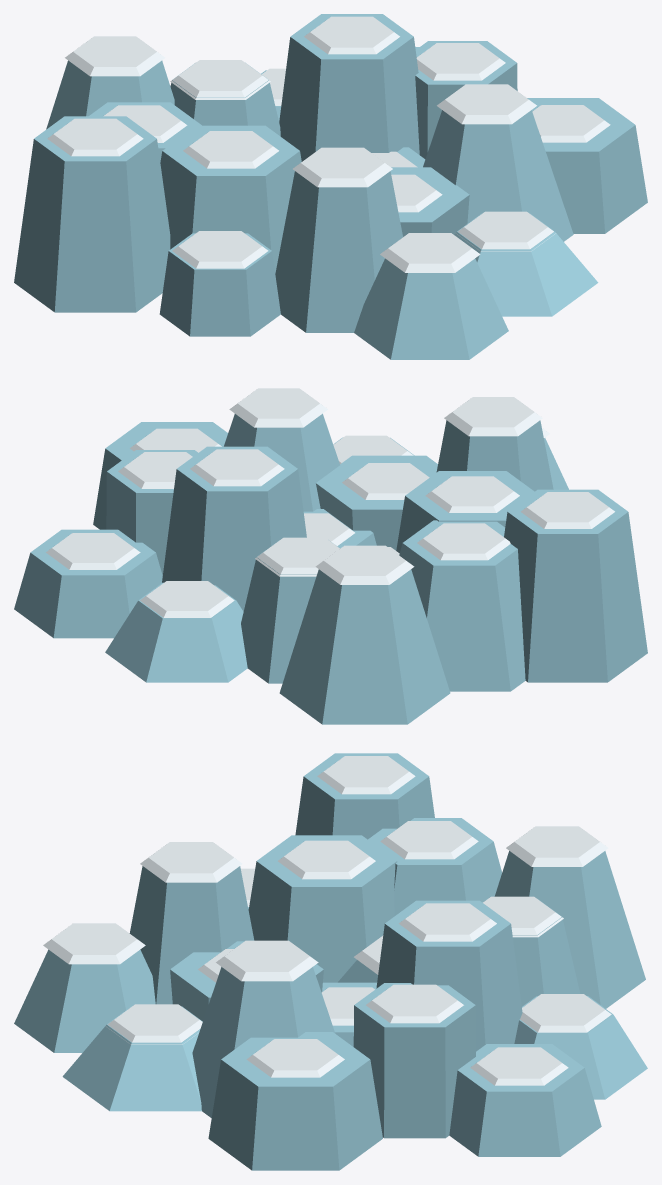
The model's file is FEATURE_GLACIER_v01.fbx.
3 renders of one model, top to bottom at view 1: azimuth 30°, elevation 25°; view 2: azimuth 150°, elevation 25°; view 3: azimuth 270°, elevation 25°, orthographic. The views are drawn at different scales.
Visible parts, largest first — view 1: Glacial_serac.035, Glacial_serac.025, Glacial_serac.021, Glacial_serac.033, Glacial_serac.022, Glacial_serac.023, Glacial_serac.031, Glacial_serac.030, Glacial_serac.028, Glacial_serac.032, Glacial_serac.026, Glacial_serac.024 (+17 smaller); view 2: Glacial_serac.035, Glacial_serac.032, Glacial_serac.027, Glacial_serac.021, Glacial_serac.034, Glacial_serac.029, Glacial_serac.024, Glacial_serac.025, Glacial_serac.020, Glacial_serac.023, Glacial_serac.026, Glacial_serac.022 (+17 smaller); view 3: Glacial_serac.031, Glacial_serac.022, Glacial_serac.026, Glacial_serac.034, Glacial_serac.032, Glacial_serac.021, Glacial_serac.025, Glacial_serac.033, Glacial_serac.023, Glacial_serac.028, Glacial_serac.035, Glacial_serac.027 (+19 smaller).
Boxes of the visible parts, box(x1,y1,x2,y2) form: Glacial_serac.035: box(14, 116, 170, 312); Glacial_serac.025: box(275, 171, 402, 332); Glacial_serac.021: box(279, 14, 419, 161); Glacial_serac.033: box(354, 258, 508, 359); Glacial_serac.022: box(160, 125, 301, 272); Glacial_serac.023: box(423, 110, 573, 241); Glacial_serac.031: box(527, 98, 647, 233); Glacial_serac.030: box(159, 233, 280, 336); Glacial_serac.028: box(454, 213, 598, 316); Glacial_serac.032: box(46, 60, 174, 129); Glacial_serac.026: box(415, 41, 517, 159); Glacial_serac.024: box(170, 62, 280, 136); Glacial_serac.035: box(504, 489, 647, 682); Glacial_serac.032: box(279, 569, 450, 724); Glacial_serac.027: box(399, 520, 525, 691); Glacial_serac.021: box(162, 446, 306, 611); Glacial_serac.034: box(14, 529, 162, 638); Glacial_serac.029: box(105, 582, 247, 682); Glacial_serac.024: box(241, 540, 338, 683); Glacial_serac.025: box(436, 420, 553, 491); Glacial_serac.020: box(316, 455, 437, 550); Glacial_serac.023: box(224, 413, 339, 511); Glacial_serac.026: box(106, 450, 197, 575); Glacial_serac.022: box(396, 471, 534, 552); Glacial_serac.031: box(208, 1032, 382, 1170); Glacial_serac.022: box(248, 835, 397, 982); Glacial_serac.026: box(353, 983, 475, 1138); Glacial_serac.034: box(449, 1044, 601, 1156); Glacial_serac.032: box(494, 851, 645, 1008); Glacial_serac.021: box(376, 900, 522, 1051); Glacial_serac.025: box(129, 866, 254, 1004); Glacial_serac.033: box(14, 949, 155, 1052); Glacial_serac.023: box(192, 967, 335, 1117); Glacial_serac.028: box(62, 1006, 202, 1111); Glacial_serac.035: box(295, 753, 434, 839); Glacial_serac.027: box(368, 818, 501, 915).
Size of the model in its own units: 153 by 39.12 by 148.
